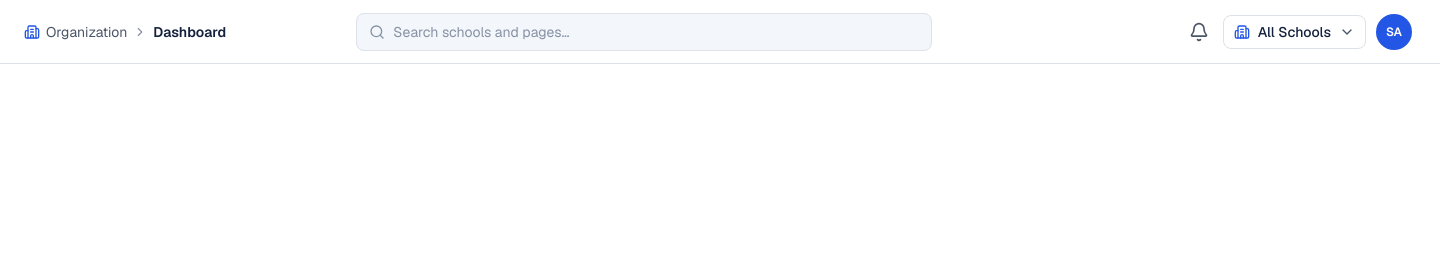
Scenario: Organization school selector › links to the existing Schools page, and shows a loading state while the list is fetched
The width and height of the screenshot is (1440, 257).
Click the button with aria-label "Switch school context". click: (1294, 32)
box: [1223,14,1366,48]
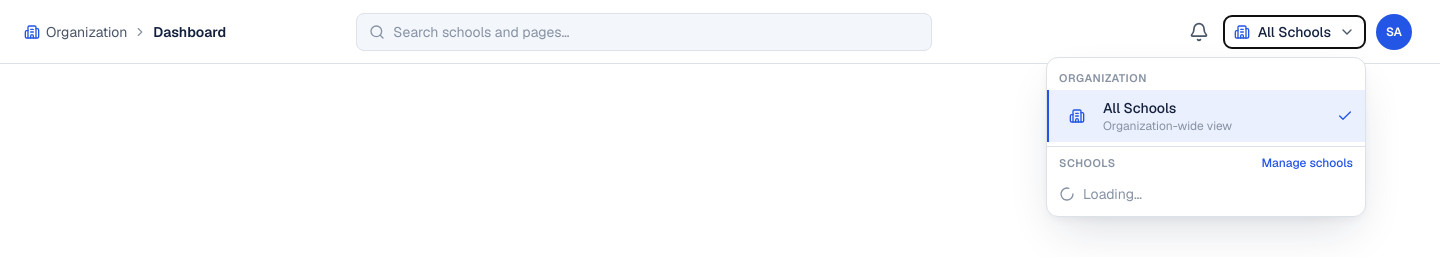
Expected: the text "Loading…" is shown, [1059,184,1142,202]
